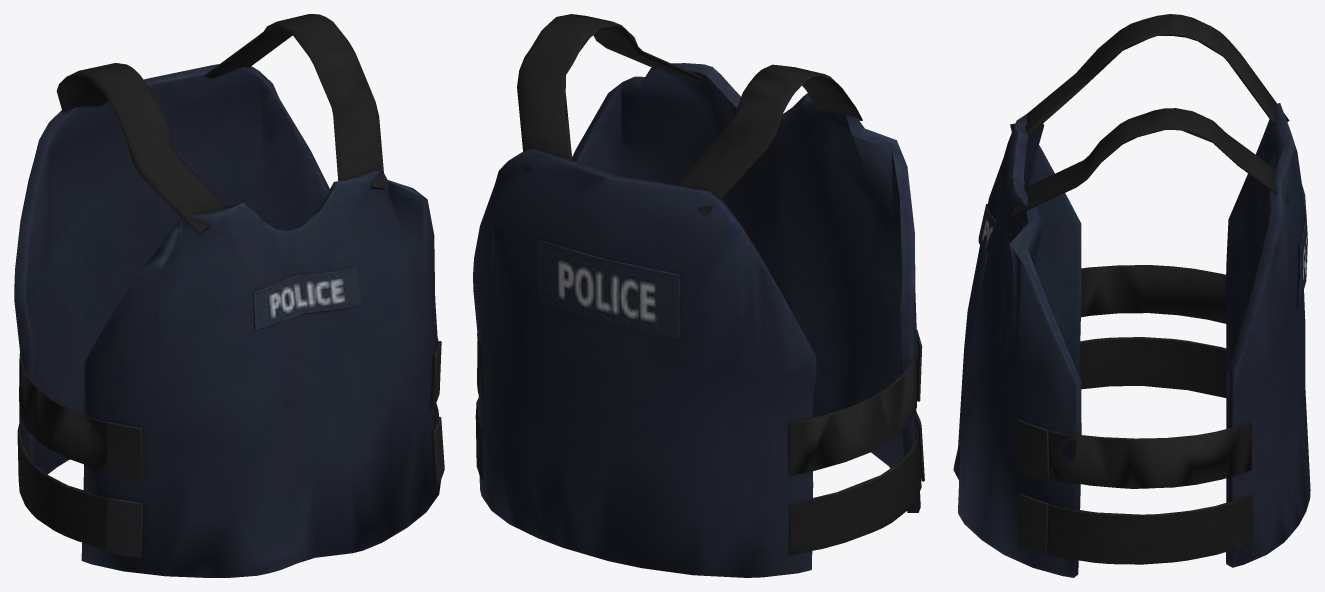
The model's file is vest_1_lod1.glb.
3 renders of one model, left to right at view 1: azimuth 30°, elevation 25°; view 2: azimuth 150°, elevation 25°; view 3: azimuth 270°, elevation 25°, orthographic. The views are drawn at different scales.
Parts seen in each view (by area): view 1: body; view 2: body; view 3: body.
Part boxes in pixels (x1,y1,x2,y2): body: (14,14,444,577); body: (473,14,924,577); body: (953,14,1310,577).
Size of the model in its own units: 0.4442 by 0.4882 by 0.3719.
1 material, 1 textured.
